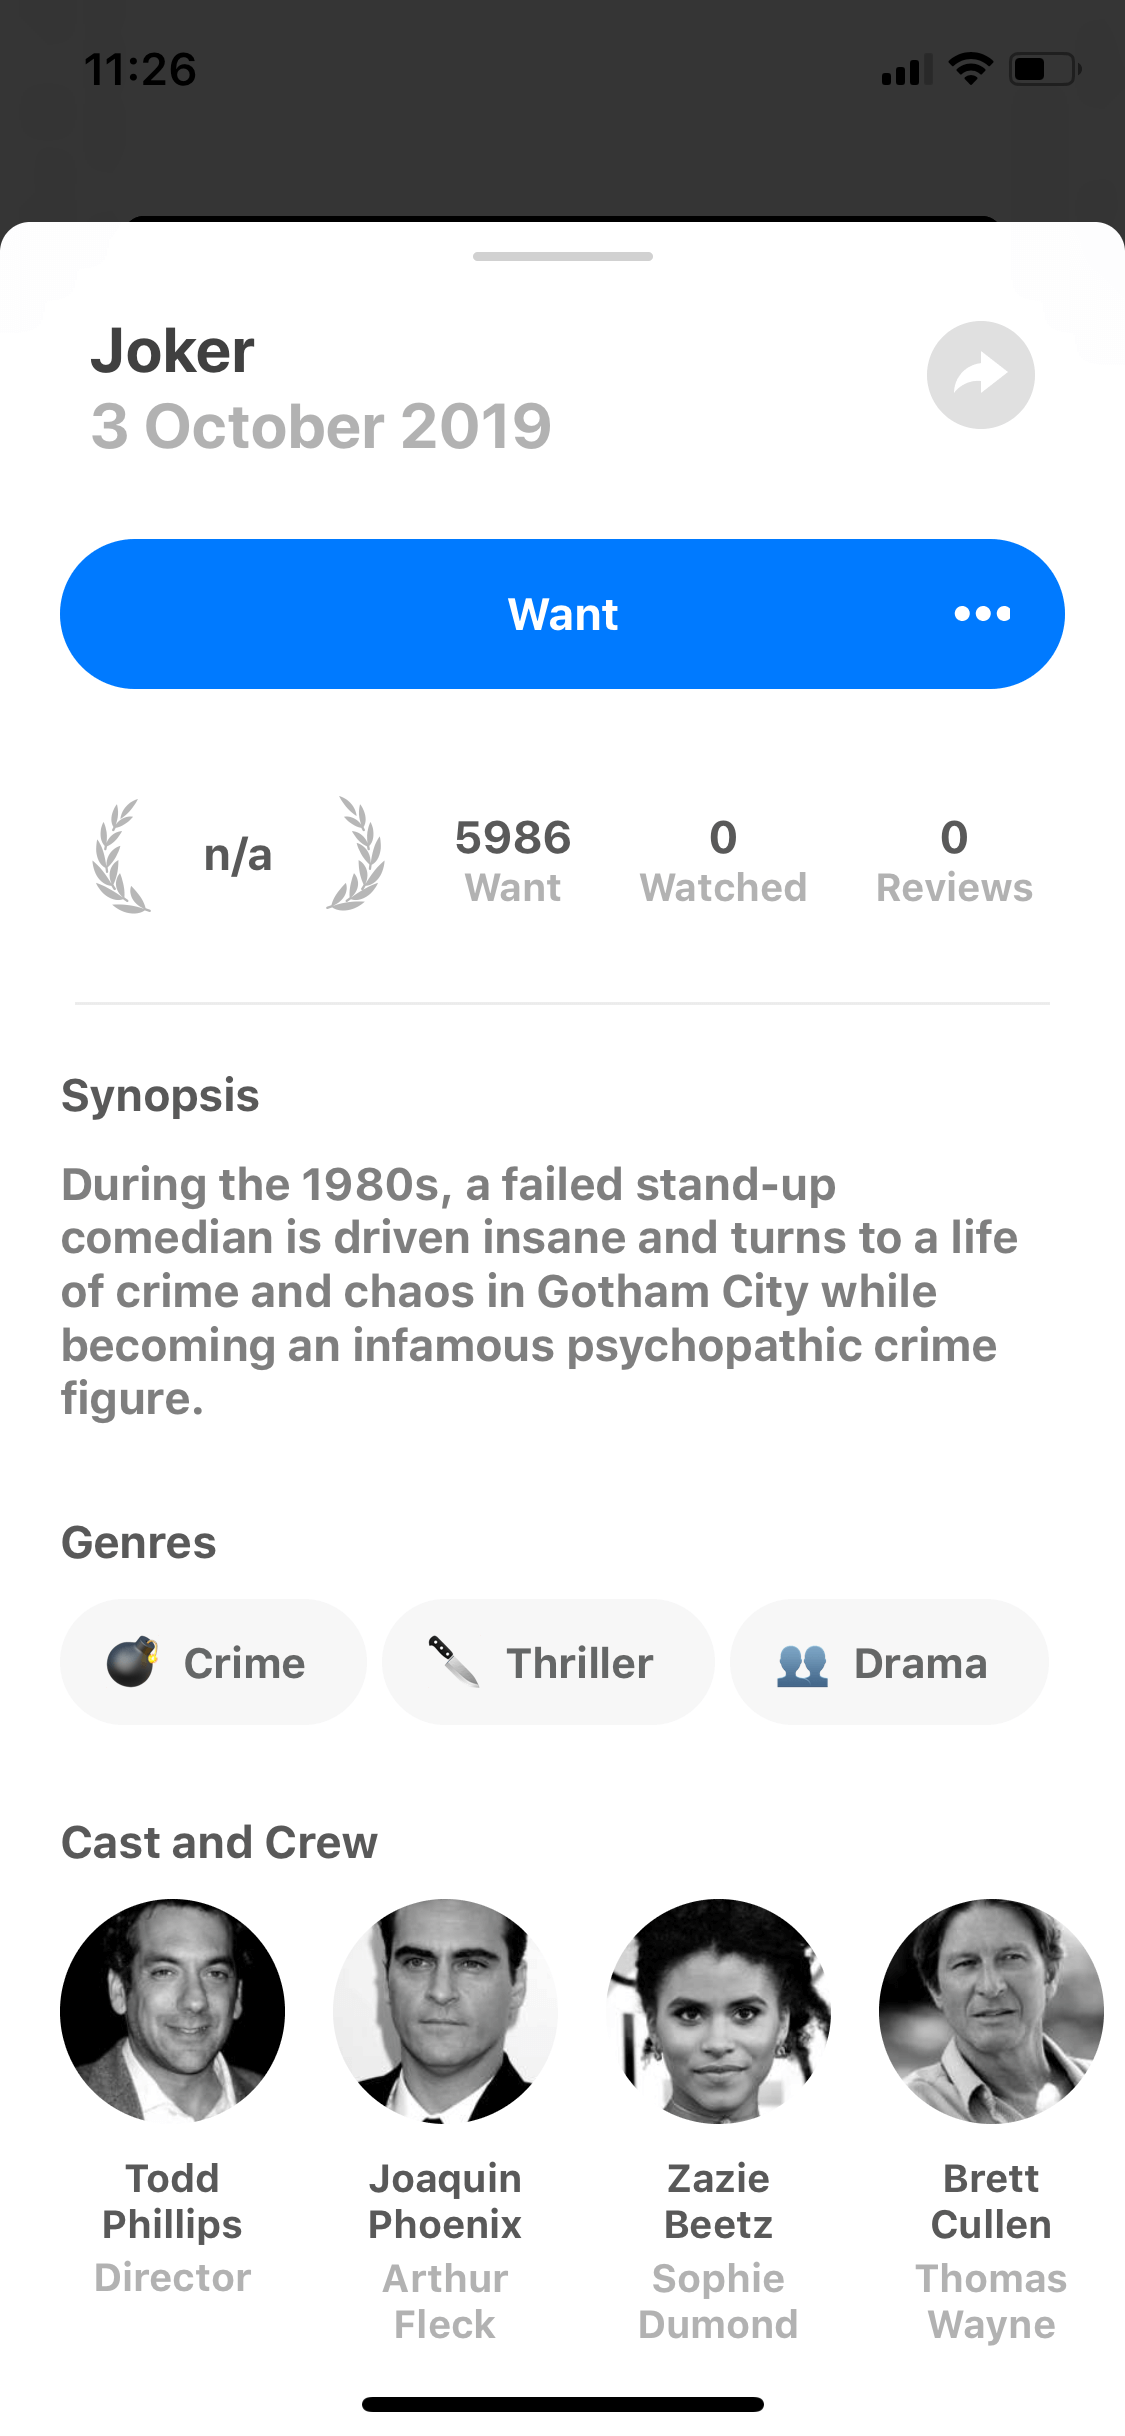Buttons: (48, 520, 1064, 707), (907, 308, 1050, 449)
